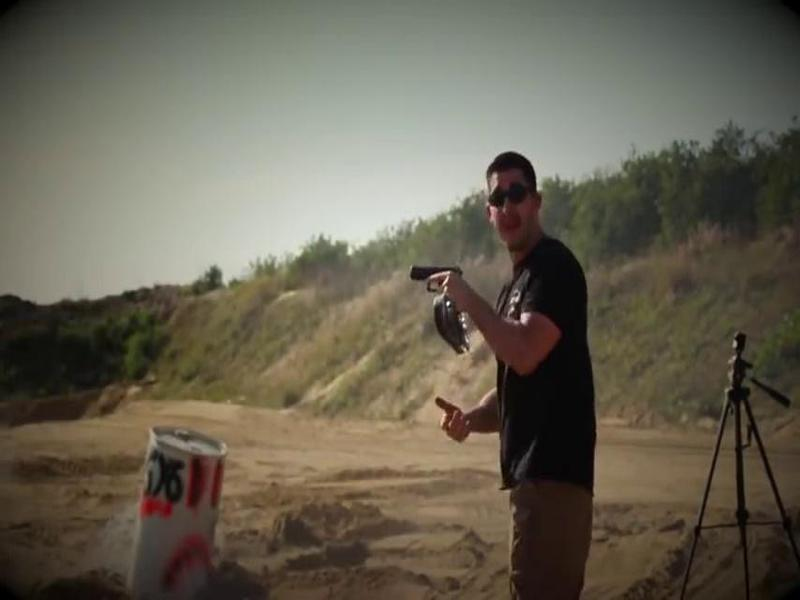Pistola: (390, 258, 479, 328)
